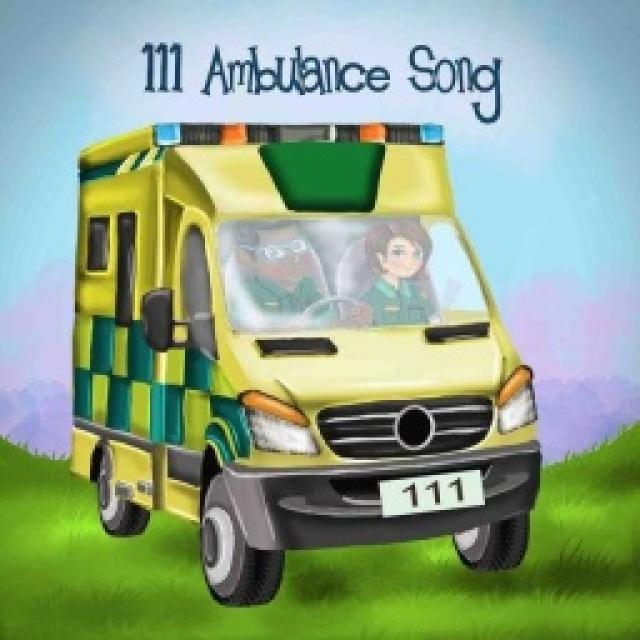emergency-vehicle: (74, 106, 550, 606)
